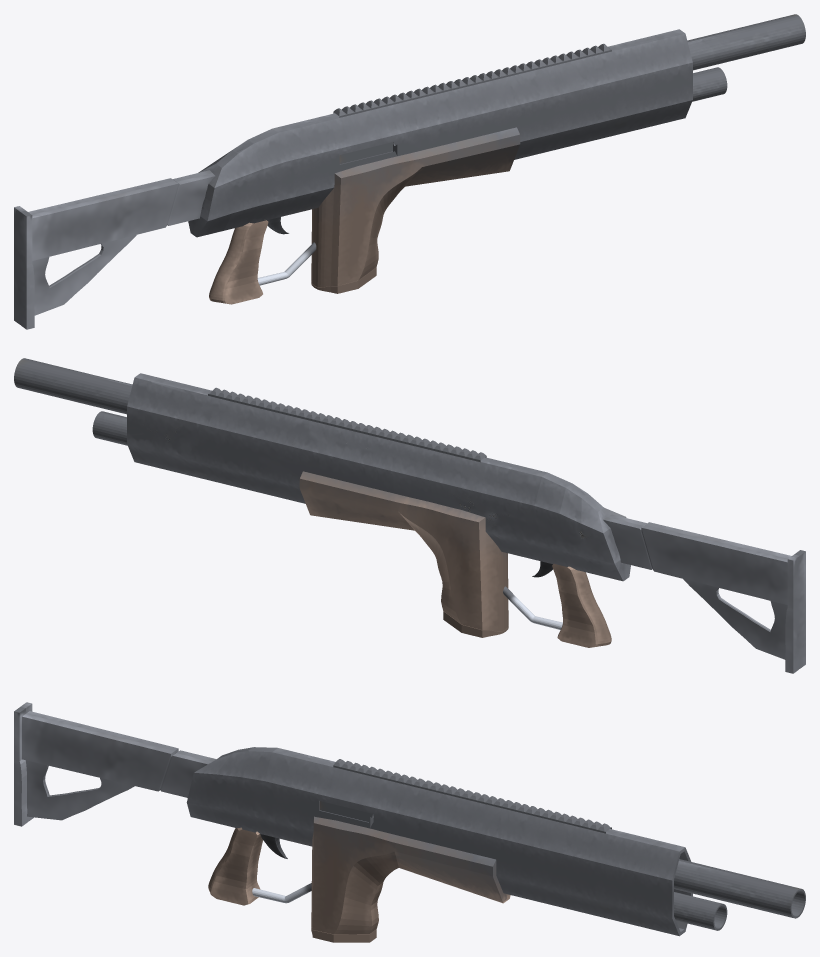
Rendered from Gun .fbx.
3 renders of one model, top to bottom at view 1: azimuth 30°, elevation 25°; view 2: azimuth 150°, elevation 25°; view 3: azimuth 330°, elevation 25°, orthographic.
Visible parts, largest first — view 1: Каркас, Преклад, Магазинный сло, Дуло, Ручка, Плоскость, Затвор, Трубка; view 2: Каркас, Преклад, Магазинный сло, Дуло, Ручка, Плоскость, Трубка; view 3: Каркас, Преклад, Магазинный сло, Дуло, Ручка, Плоскость, Магазин, Затвор, Трубка.
Part boxes in pixels (x1=…): Каркас: x1=188, y1=29, x2=692, y2=237; Преклад: x1=14, y1=170, x2=215, y2=329; Магазинный сло: x1=311, y1=127, x2=520, y2=287; Дуло: x1=687, y1=14, x2=805, y2=101; Ручка: x1=209, y1=220, x2=268, y2=304; Плоскость: x1=333, y1=43, x2=611, y2=117; Затвор: x1=339, y1=142, x2=398, y2=163; Трубка: x1=257, y1=242, x2=316, y2=285; Каркас: x1=127, y1=373, x2=630, y2=581; Преклад: x1=603, y1=514, x2=805, y2=673; Магазинный сло: x1=299, y1=471, x2=508, y2=631; Дуло: x1=14, y1=358, x2=132, y2=445; Ручка: x1=552, y1=563, x2=611, y2=647; Плоскость: x1=208, y1=387, x2=486, y2=462; Трубка: x1=503, y1=586, x2=562, y2=629; Каркас: x1=186, y1=747, x2=692, y2=936; Преклад: x1=14, y1=702, x2=216, y2=826; Магазинный сло: x1=311, y1=816, x2=510, y2=934; Дуло: x1=674, y1=859, x2=805, y2=930; Ручка: x1=208, y1=827, x2=262, y2=905; Плоскость: x1=333, y1=759, x2=611, y2=833; Магазин: x1=311, y1=927, x2=376, y2=942; Затвор: x1=319, y1=801, x2=373, y2=827; Трубка: x1=252, y1=883, x2=311, y2=903.
Bounding box in the file's own units: 2108 × 447 × 131.
Materials: 1 (1 with a texture image).
